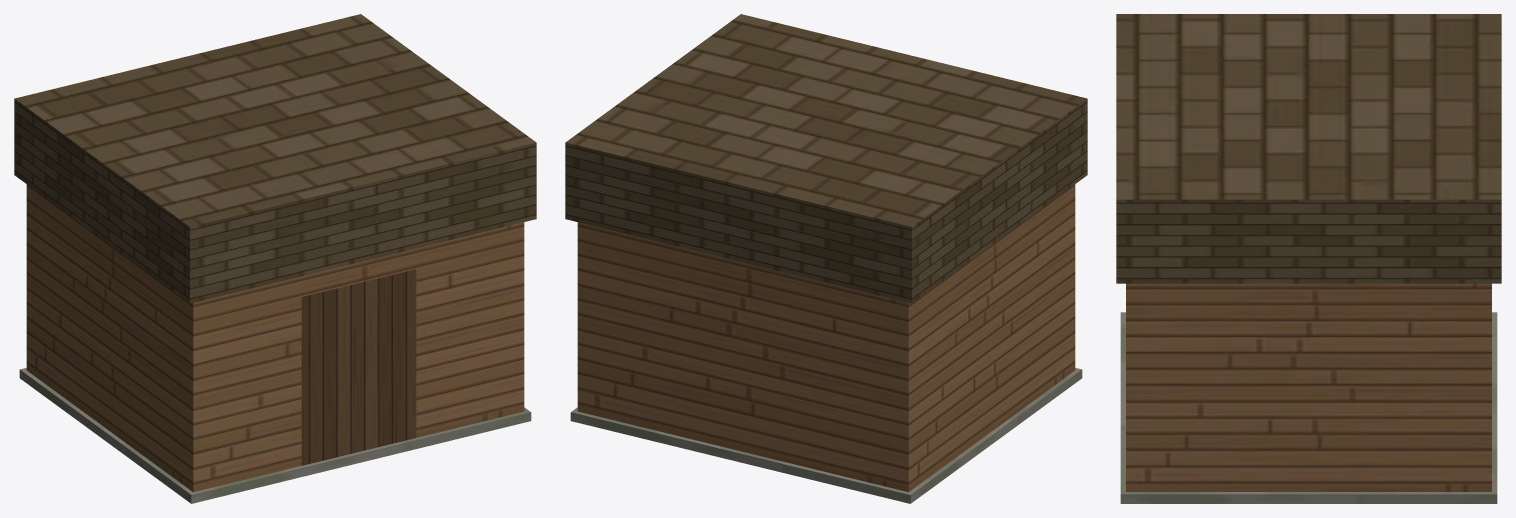
Rendered from house_booth_lod1.glb.
The picture shows the model from 3 angles, left to right: view 1: azimuth 30°, elevation 25°; view 2: azimuth 150°, elevation 25°; view 3: azimuth 270°, elevation 25°; orthographic projection. The views are drawn at different scales.
Visible parts, largest first — view 1: ae_forest_house_booth_lod1; view 2: ae_forest_house_booth_lod1; view 3: ae_forest_house_booth_lod1.
Boxes of the visible parts, x1,y1,x2,y2 form: ae_forest_house_booth_lod1: (14, 14, 536, 503); ae_forest_house_booth_lod1: (565, 14, 1087, 503); ae_forest_house_booth_lod1: (1116, 14, 1501, 503).
Bounding box in the file's own units: 4.08 × 3.14 × 3.58.
1 material, 1 textured.
